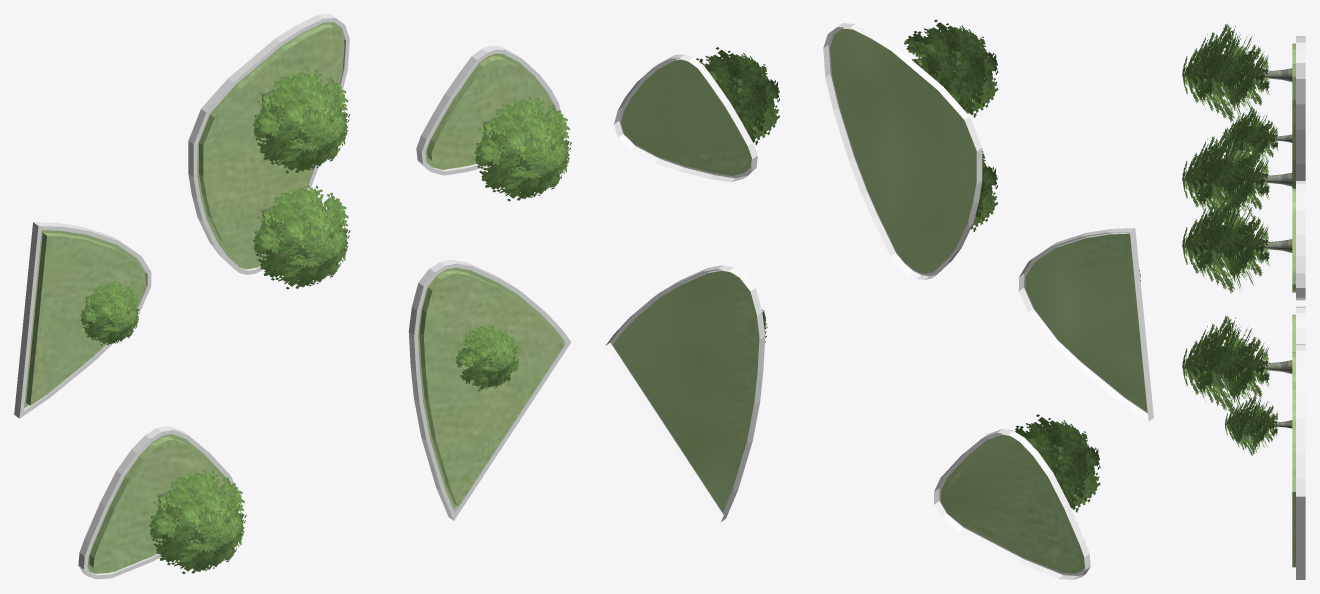
3 views of the same model, side by side, from view 1: azimuth 30°, elevation 25°; view 2: azimuth 150°, elevation 25°; view 3: azimuth 270°, elevation 25° (orthographic). The views are drawn at different scales.
Visible parts, largest first — view 1: 贝塞尔曲线.004, 贝塞尔曲线.007, 数木1.006, 数木1.009, 数木1.007, 数木1.005, 数木1.010, 数木1.013; view 2: 贝塞尔曲线.007, 贝塞尔曲线.004, 数木1.009, 数木1.005, 数木1.006, 数木1.007; view 3: 数木1.009, 数木1.006, 数木1.005, 贝塞尔曲线.007, 数木1.007, 数木1.010, 贝塞尔曲线.004, 数木1.013.
Part boxes in pixels (x1,y1,x2,y2): 贝塞尔曲线.004: (26,24,564,572); 贝塞尔曲线.007: (14,14,571,579); 数木1.006: (474,97,571,201); 数木1.009: (253,69,350,173); 数木1.007: (253,185,350,289); 数木1.005: (149,469,246,573); 数木1.010: (456,325,519,391); 数木1.013: (80,281,140,345); 贝塞尔曲线.007: (605,23,1153,579); 贝塞尔曲线.004: (617,33,1140,569); 数木1.009: (904,19,998,117); 数木1.005: (1012,414,1100,512); 数木1.006: (696,47,779,144); 数木1.007: (971,151,997,231); 数木1.009: (1182,23,1292,122); 数木1.006: (1182,194,1292,293); 数木1.005: (1182,315,1292,412); 贝塞尔曲线.007: (1296,36,1305,579); 数木1.007: (1182,128,1292,221); 数木1.010: (1225,395,1292,455); 贝塞尔曲线.004: (1292,43,1295,567); 数木1.013: (1224,107,1292,167).
Bounding box in the file's own units: 29.65 × 27.42 × 6.4.
3 materials, 2 textured.
